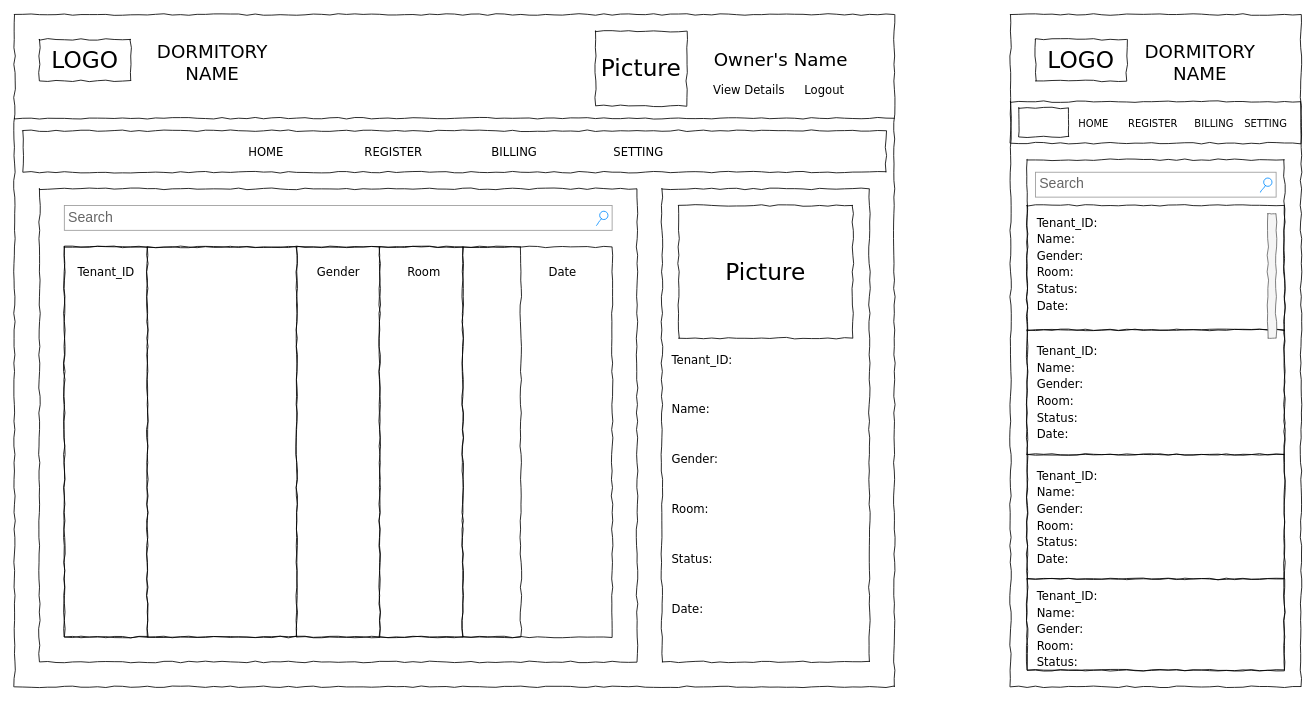
This 1316x701 diagram has some shape labels left out. Each missing label, with the box of its shape:
Name: (146, 246, 297, 637)
PROFILE: (1018, 107, 1069, 137)
Status: (462, 246, 521, 637)
